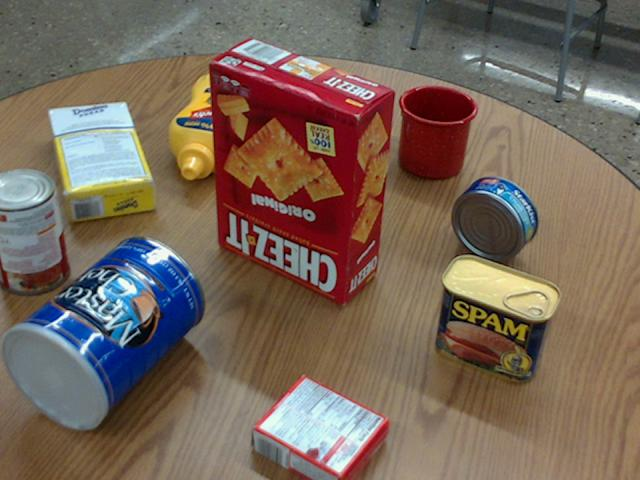cracker_box: (208, 38, 394, 303)
gelatin_box: (252, 374, 388, 479)
large_marker: (322, 100, 350, 159)
master_chef_can: (0, 235, 204, 430)
mug: (396, 85, 476, 178)
mustard_bottle: (168, 73, 270, 179)
potted_meat_can: (435, 255, 561, 381)
sugar_box: (47, 98, 155, 223)
tomato_soup_can: (0, 168, 69, 294)
tuna_fish_can: (450, 175, 537, 261)
